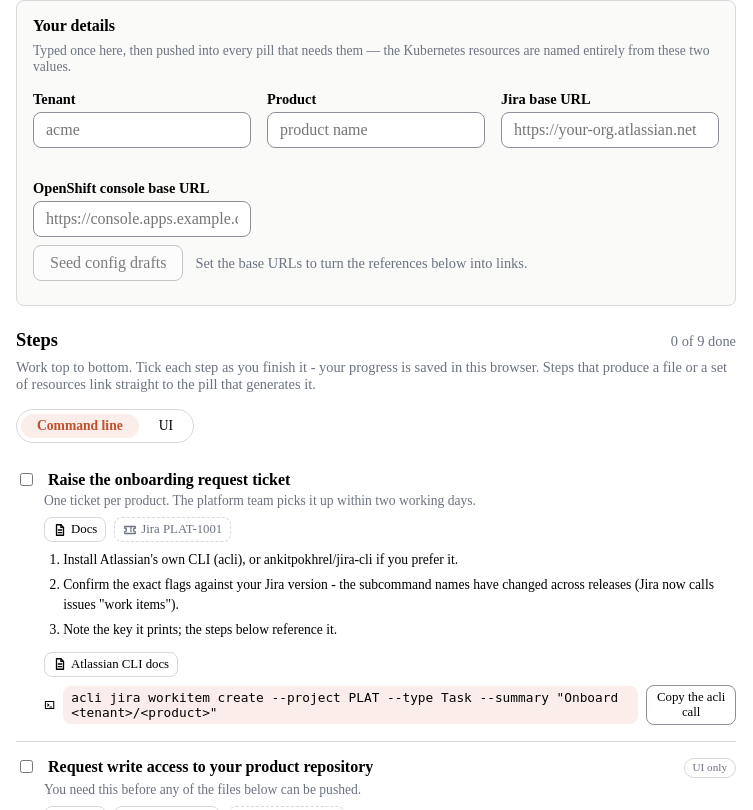
Scenario: OnboardingWorkspace › seeding › is disabled until a tenant or product is typed
Check: the button "Seed config drafts" is disabled, box [33, 245, 183, 281]
Type "widgets" into the field labelled "Product" at (376, 130), box [267, 112, 485, 148]
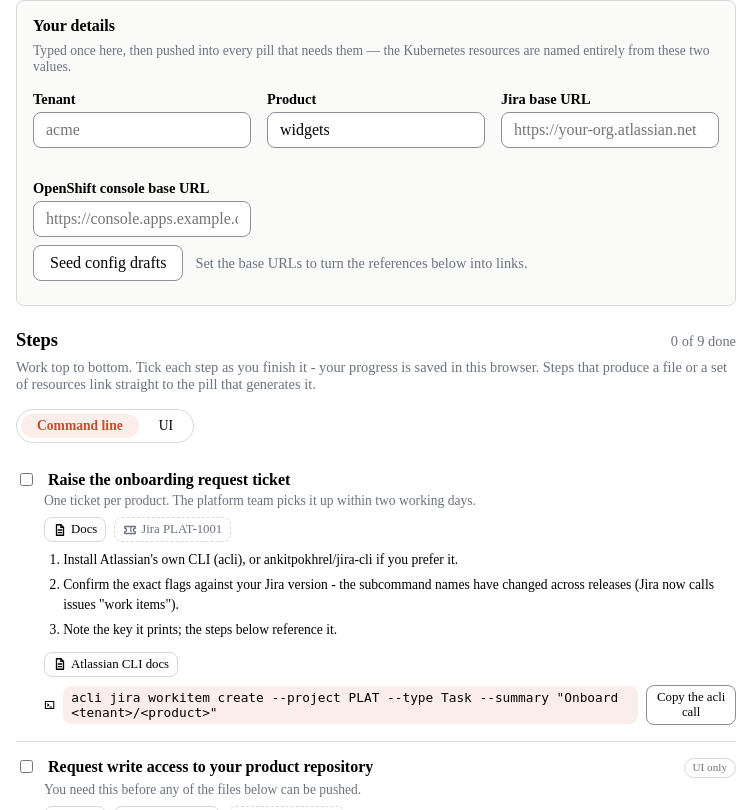
Check: the button "Seed config drafts" is enabled, box [33, 245, 183, 281]
